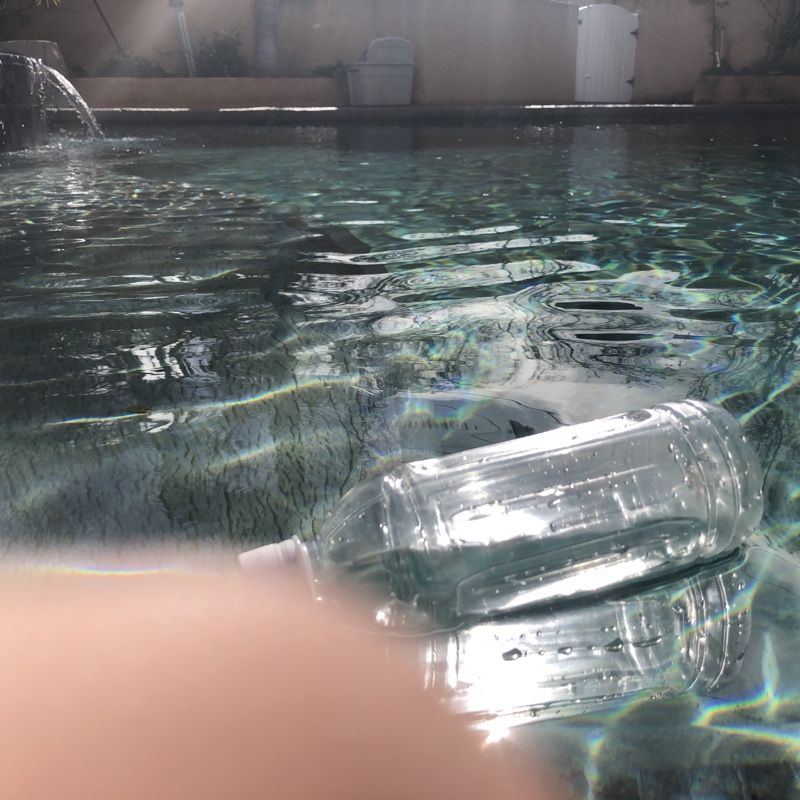Plastic Bottle: (220, 387, 768, 620)
